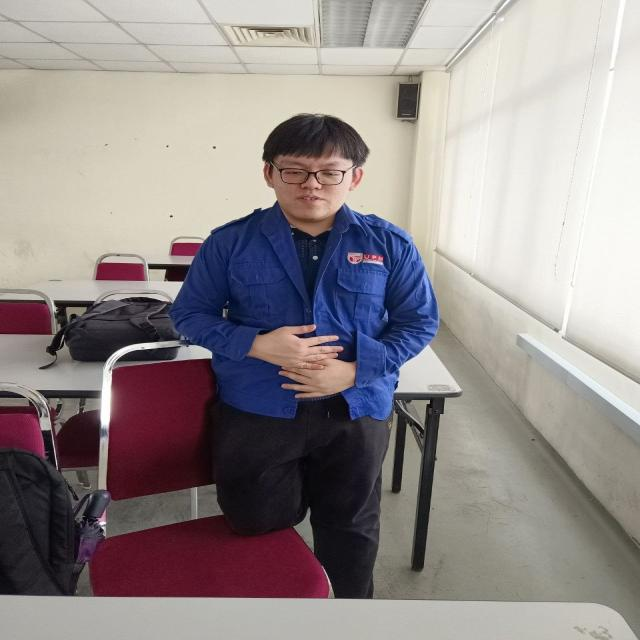person_with_labcoat: (171, 114, 439, 598)
